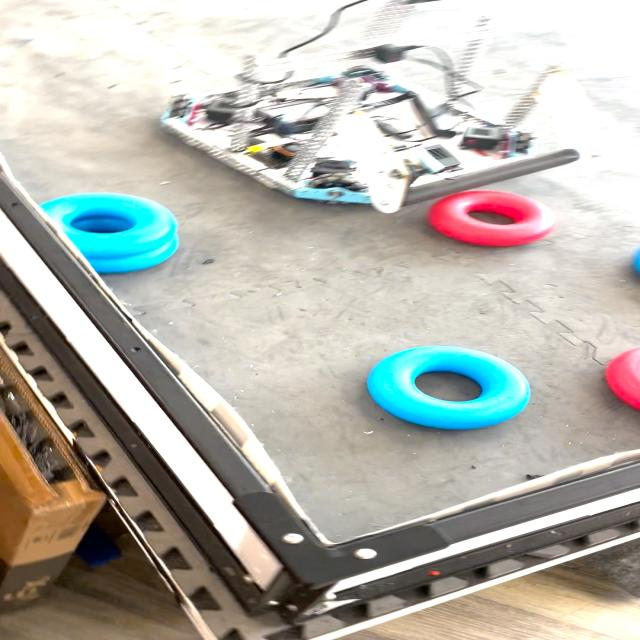Blue-Ring: (367, 346, 531, 430), (40, 192, 178, 258), (87, 236, 178, 272)
Red-Ring: (429, 190, 558, 246), (607, 348, 640, 410)
